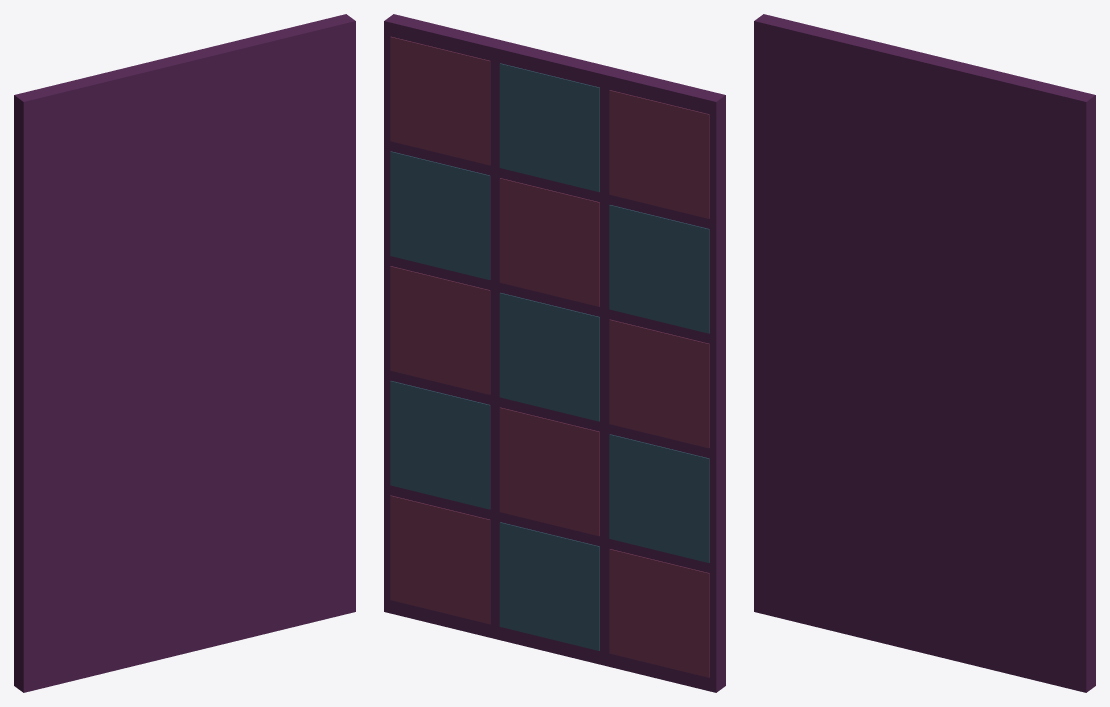
The model's file is quilt.glb.
3 views of the same model, side by side, from view 1: azimuth 30°, elevation 25°; view 2: azimuth 150°, elevation 25°; view 3: azimuth 330°, elevation 25° (orthographic).
Visible parts, largest first — view 1: #5a2a5a; view 2: #7a3a5a_noshadow, #3f5f73_noshadow, #5a2a5a; view 3: #5a2a5a.
Boxes of the visible parts, left/top/right/bottom form: #5a2a5a: left=14, top=14, right=355, bottom=692; #7a3a5a_noshadow: left=390, top=36, right=709, bottom=677; #3f5f73_noshadow: left=390, top=63, right=709, bottom=650; #5a2a5a: left=384, top=14, right=725, bottom=692; #5a2a5a: left=754, top=14, right=1095, bottom=692.
Bounding box in the file's own units: 1 × 1.7 × 0.053.
